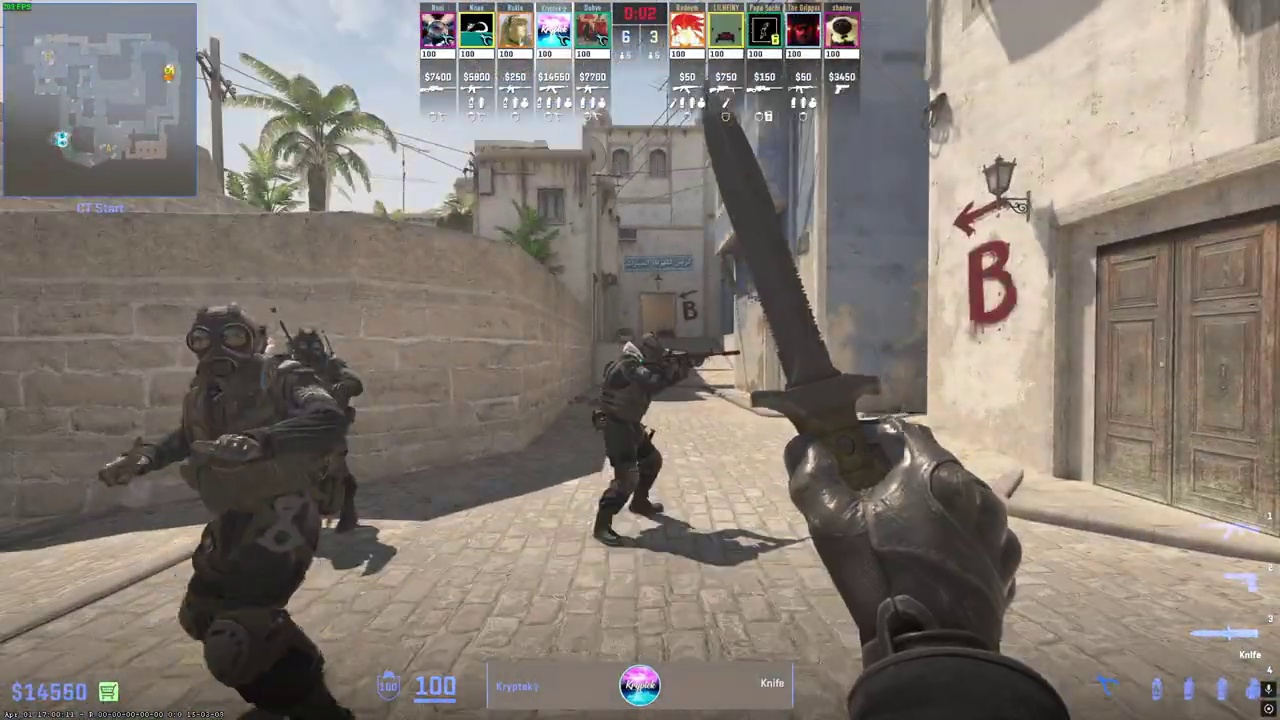CT: (158, 301, 348, 719), (592, 331, 678, 543), (280, 328, 359, 421)
